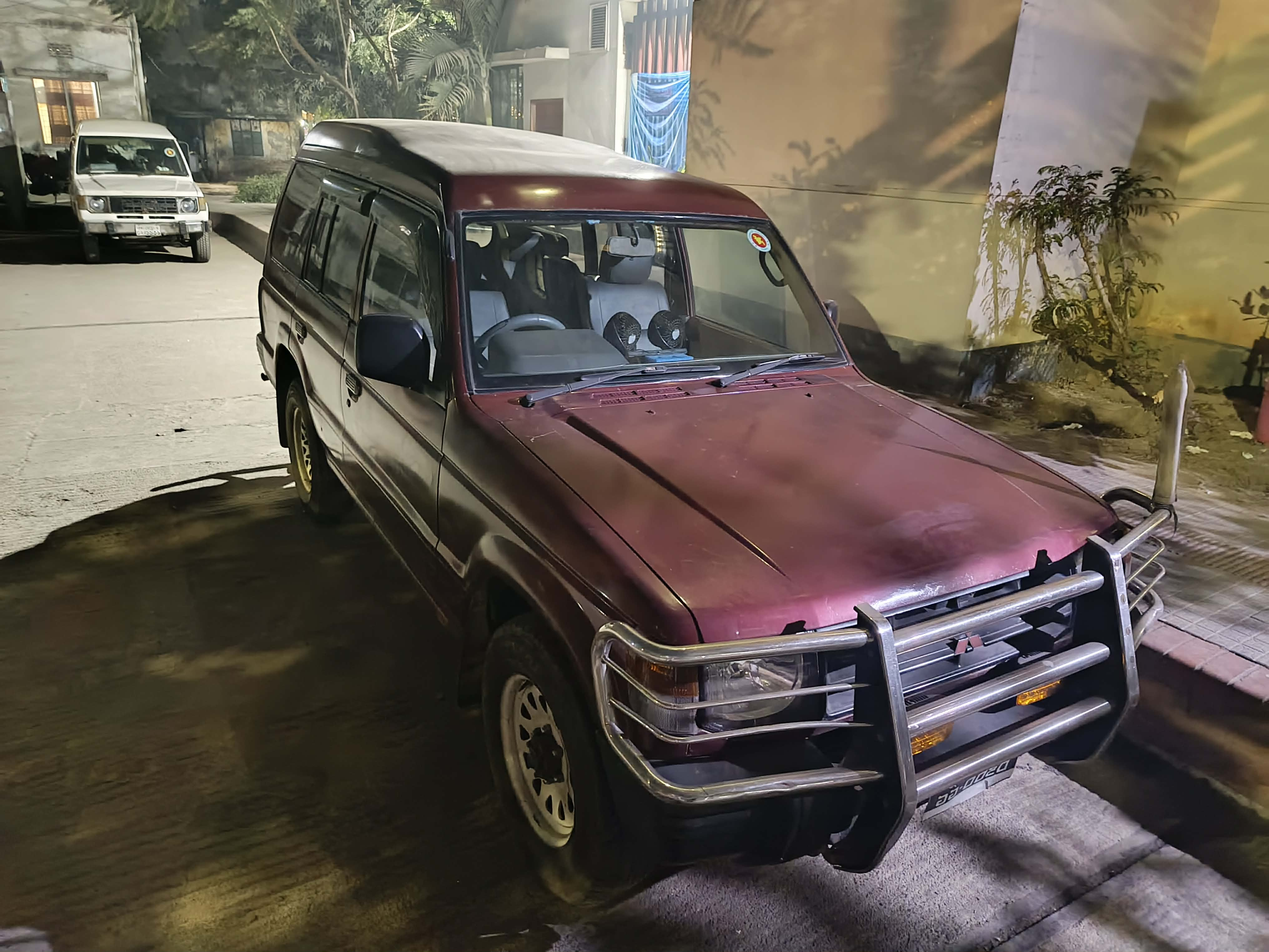private car: (253, 98, 1194, 917)
